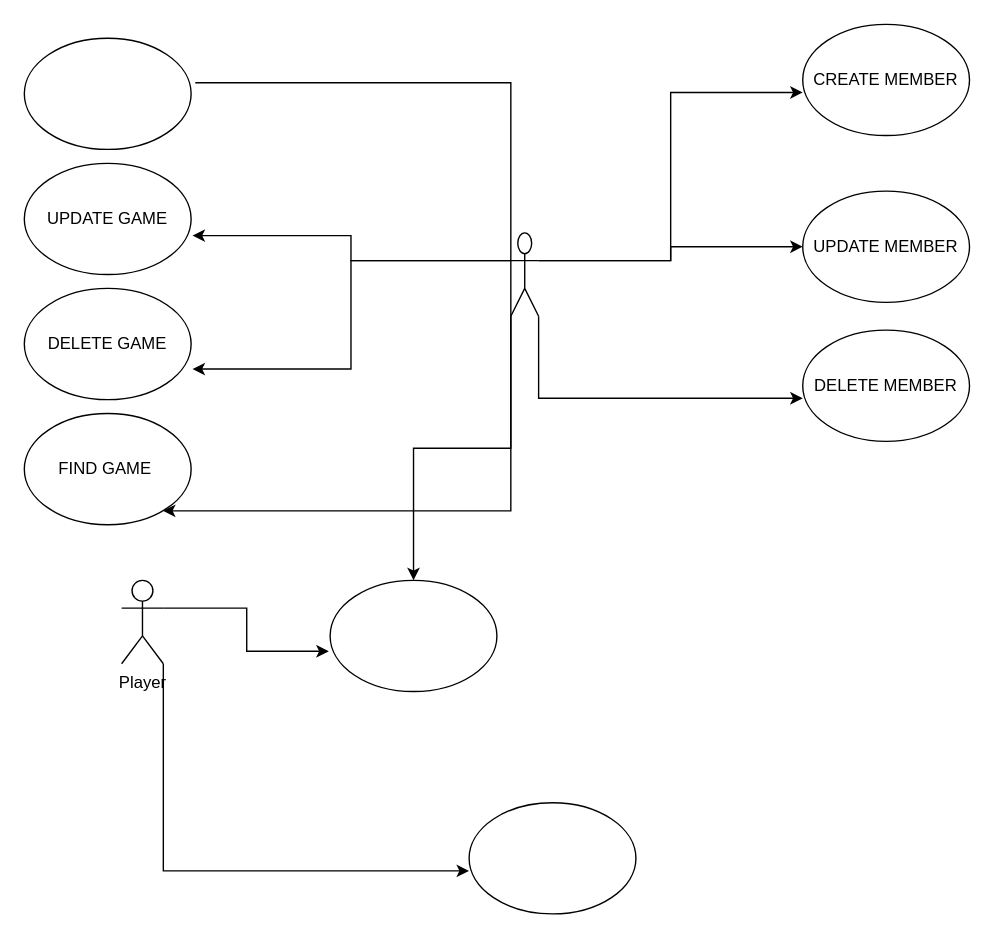
Image size: 994x938. Some labels were removed from this diagram. The centre of each missing label's shape, as x and y in pixels:
CREATE GAME: [107,93]
CREATE PLAYER: [552,857]
Member: [524,273]
SIGN UP: [413,635]
